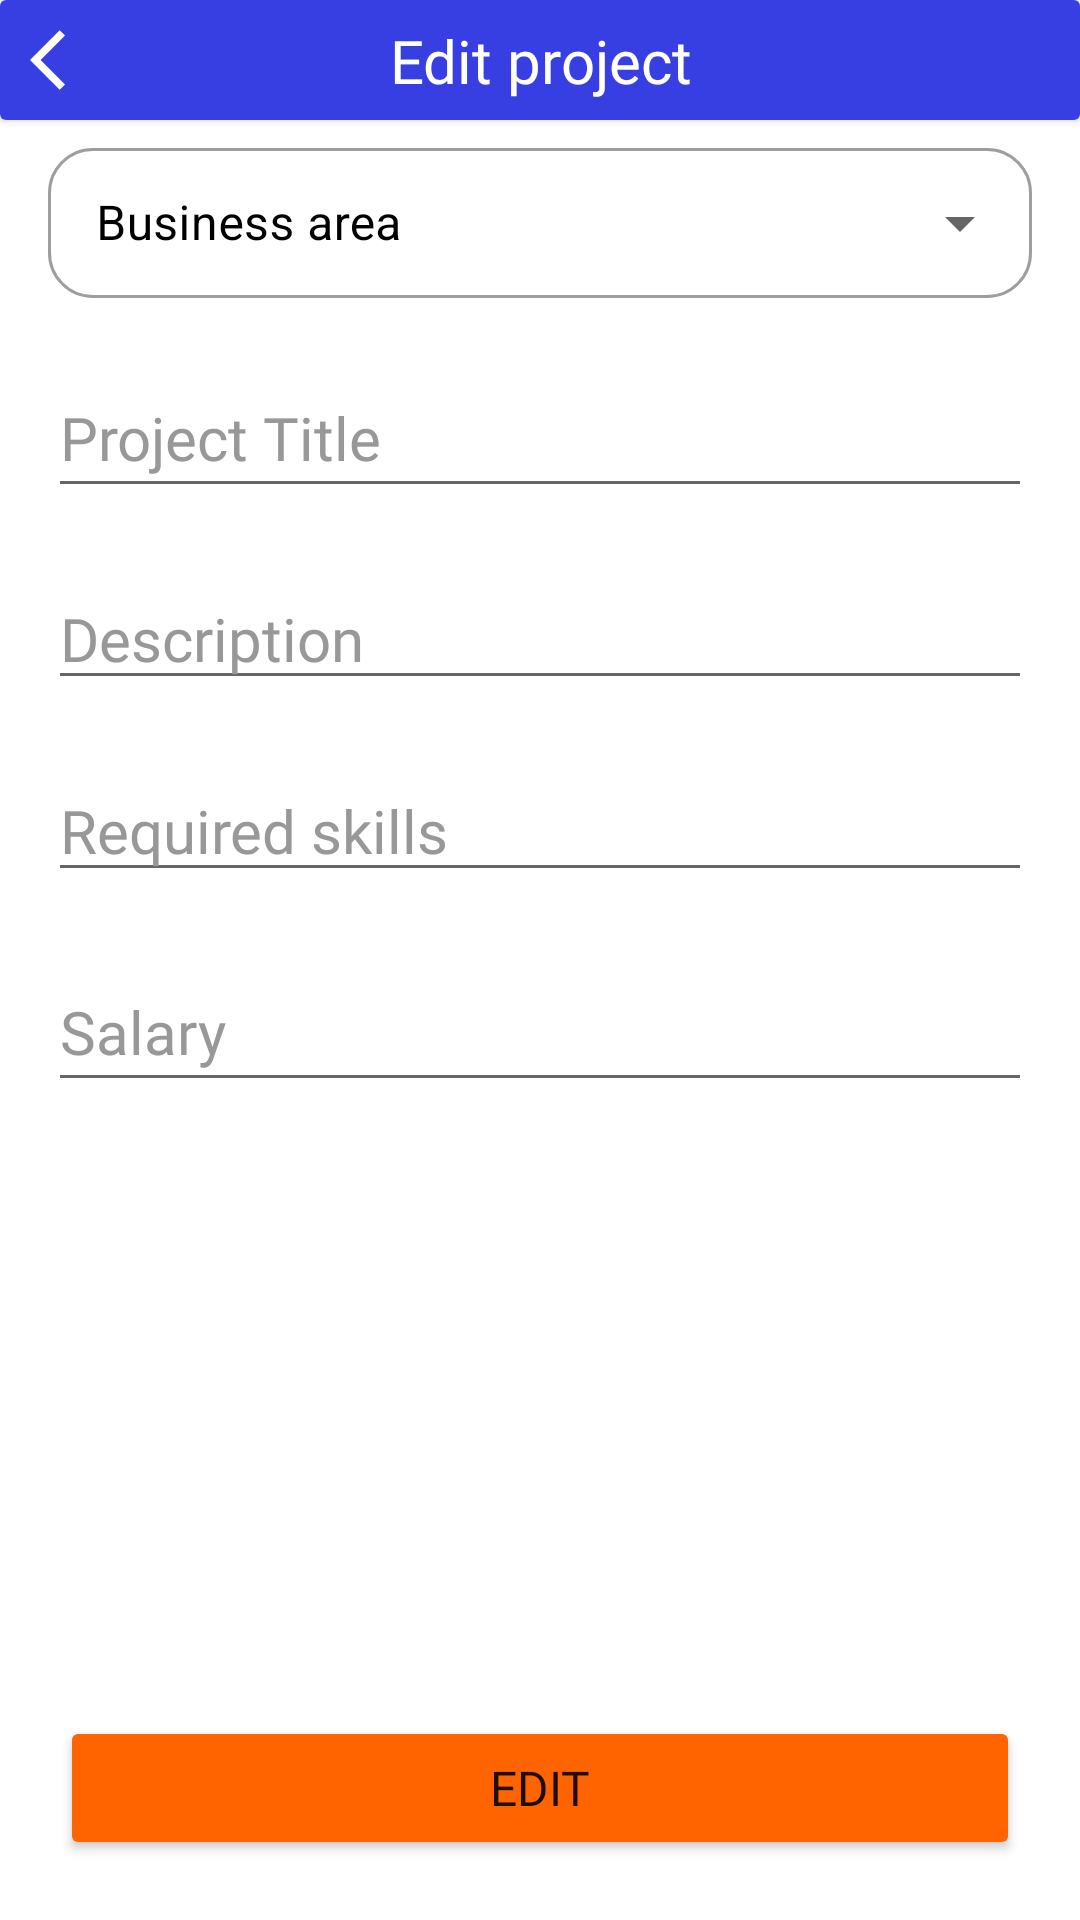

Screen size 1080w x 1920h. Icon name, then its box in pixels as (x1, y1, x2, y2):
back: (30, 30, 65, 90)
